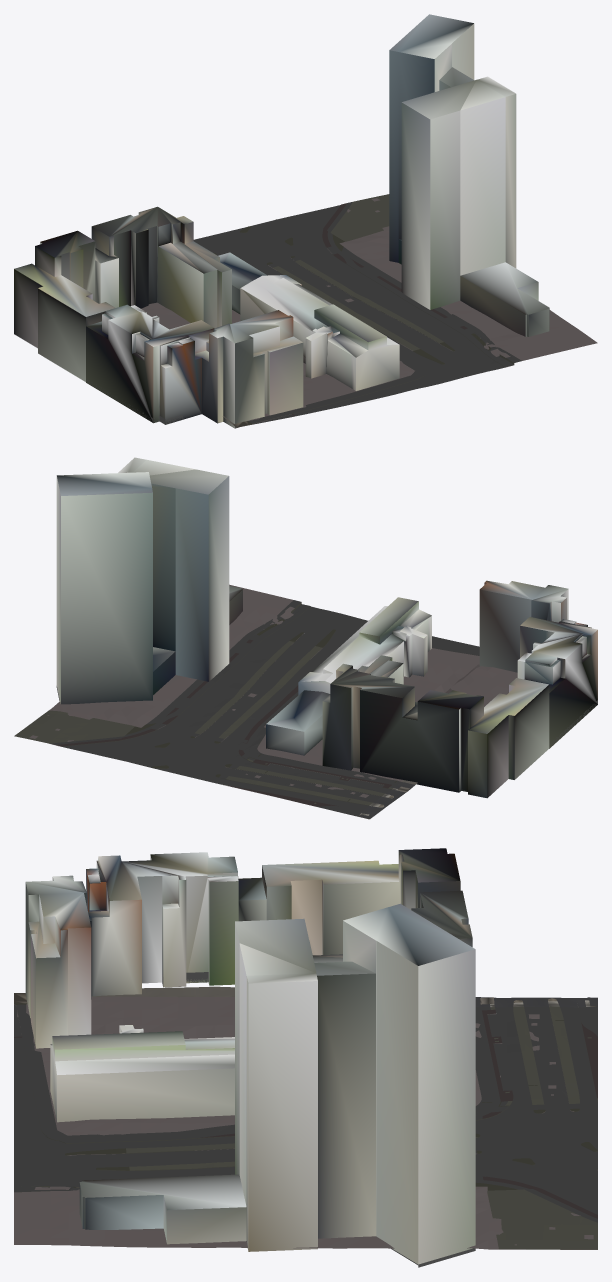
The picture shows the model from 3 angles, top to bottom: view 1: azimuth 30°, elevation 25°; view 2: azimuth 150°, elevation 25°; view 3: azimuth 270°, elevation 25°; orthographic projection. The views are drawn at different scales.
Parts seen in each view (by area): view 1: c_m14_p08; view 2: c_m14_p08; view 3: c_m14_p08.
Part boxes in pixels (x1,y1,x2,y2): c_m14_p08: (14, 14, 597, 428); c_m14_p08: (14, 457, 597, 819); c_m14_p08: (14, 848, 597, 1267).
Size of the model in its own units: 160 by 74.06 by 128.
